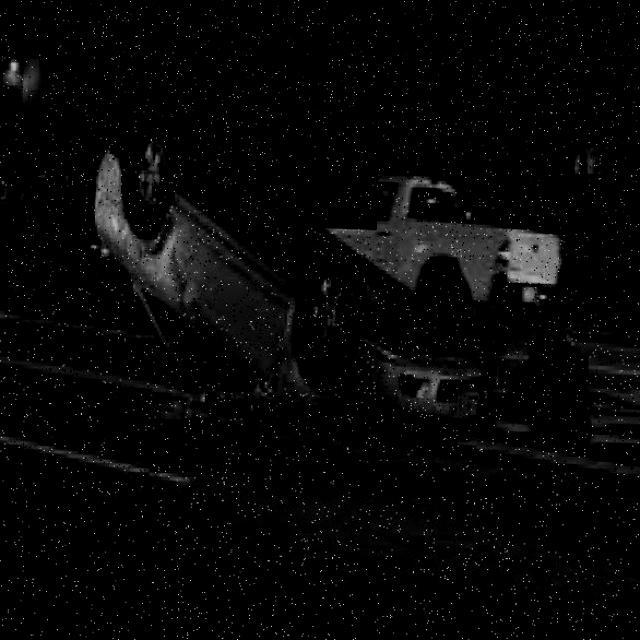accident: (81, 114, 496, 439)
